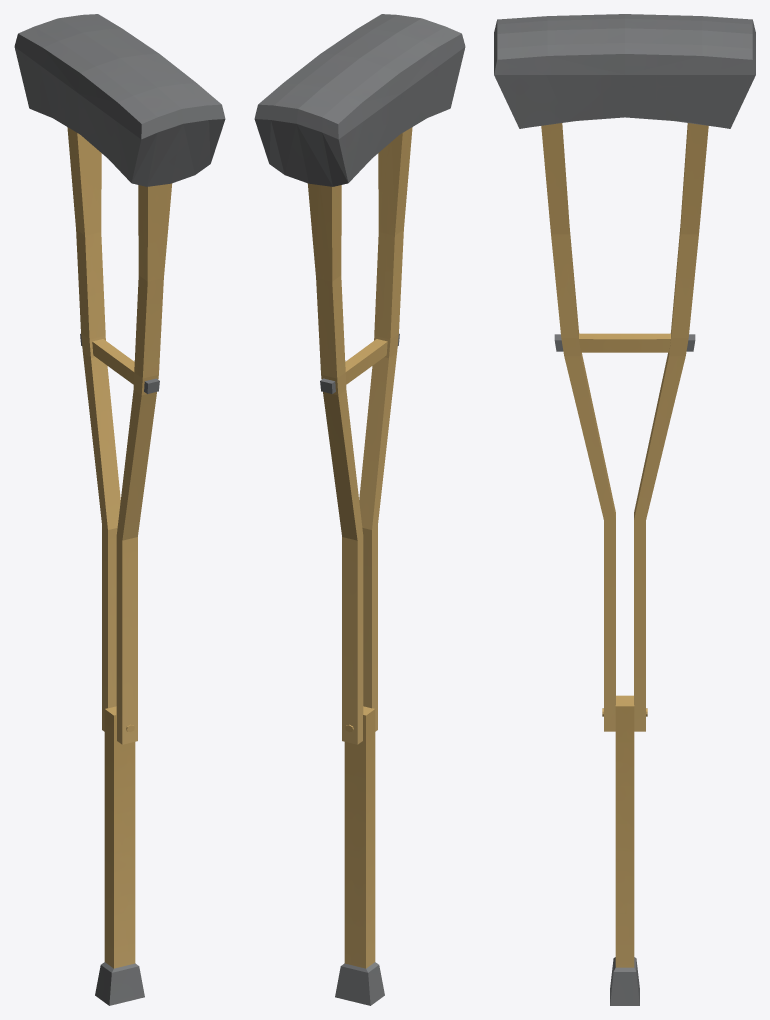
File: crutch.obj
The picture shows the model from 3 angles, left to right: view 1: azimuth 30°, elevation 25°; view 2: azimuth 150°, elevation 25°; view 3: azimuth 270°, elevation 25°; orthographic projection. The views are drawn at different scales.
Visible parts, largest first — view 1: crutch_Material; view 2: crutch_Material; view 3: crutch_Material.
Boxes of the visible parts, x1,y1,x2,y2 form: crutch_Material: (14, 14, 225, 1005); crutch_Material: (254, 14, 465, 1005); crutch_Material: (494, 14, 755, 1005).
Size of the model in its own units: 0.0996 by 1.06 by 0.2599.
